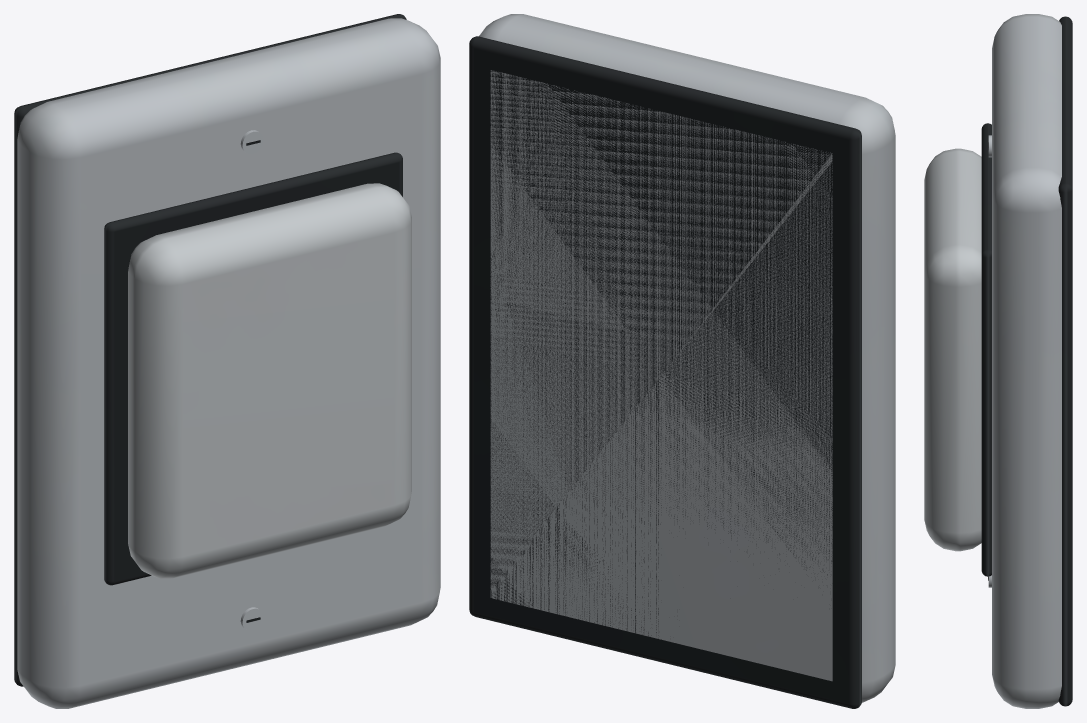
Rendered from valvula_descarga_realista.glb.
3 views of the same model, side by side, from view 1: azimuth 30°, elevation 25°; view 2: azimuth 150°, elevation 25°; view 3: azimuth 270°, elevation 25° (orthographic). The views are drawn at different scales.
Parts seen in each view (by area): view 1: Espelho_valvula, Botao_descarga; view 2: Espelho_valvula; view 3: Espelho_valvula, Botao_descarga.
Boxes of the visible parts, x1,y1,x2,y2 form: Espelho_valvula: [14, 14, 440, 708]; Botao_descarga: [128, 183, 411, 578]; Espelho_valvula: [469, 14, 895, 708]; Espelho_valvula: [981, 14, 1072, 708]; Botao_descarga: [924, 148, 981, 551].
Bounding box in the file's own units: 0.1 × 0.14 × 0.035.
Materials: 1 (1 with a texture image).
